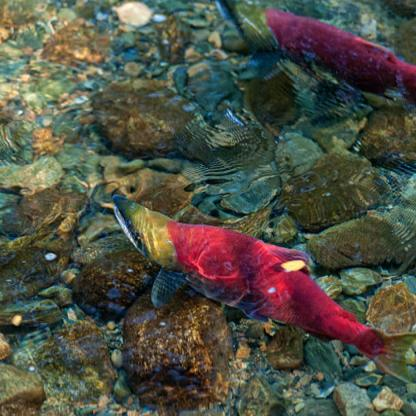sockeye: (110, 188, 397, 365), (223, 0, 416, 111)
